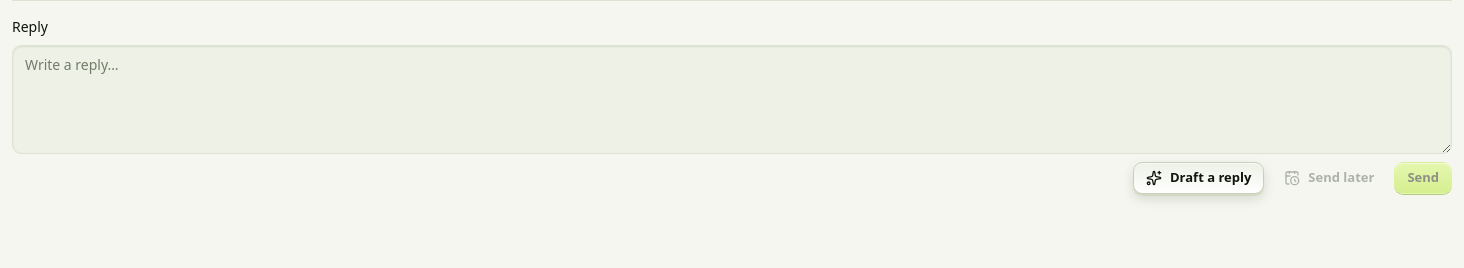
it: a send-later instant in the past is refused inline, without a request
In the text box labelled "Reply": x=732, y=100 [12,45,1452,154], type "oops"
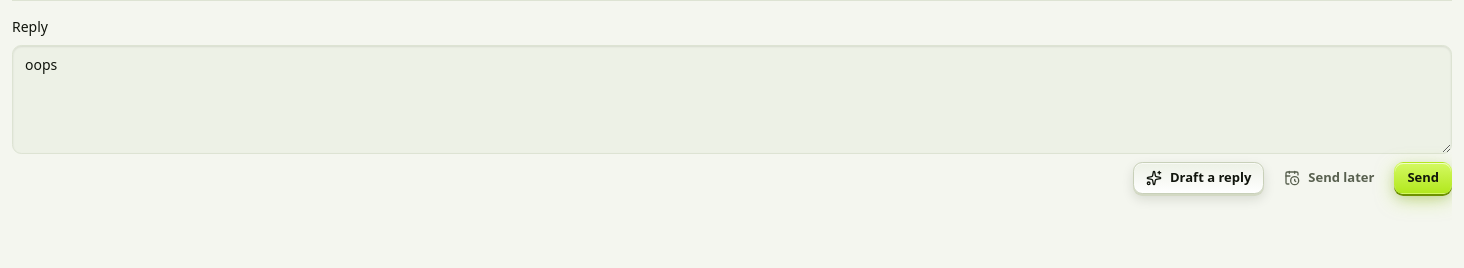
Click the button "Send later": x=1329, y=178 [1272,162,1386,194]
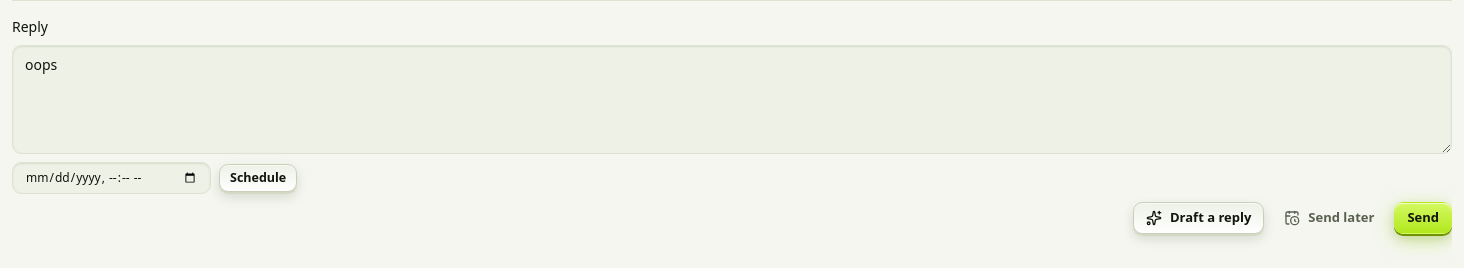
In the field named "specific date and time": x=112, y=178 [12,162,211,194], type "2020-01-01T09:00"
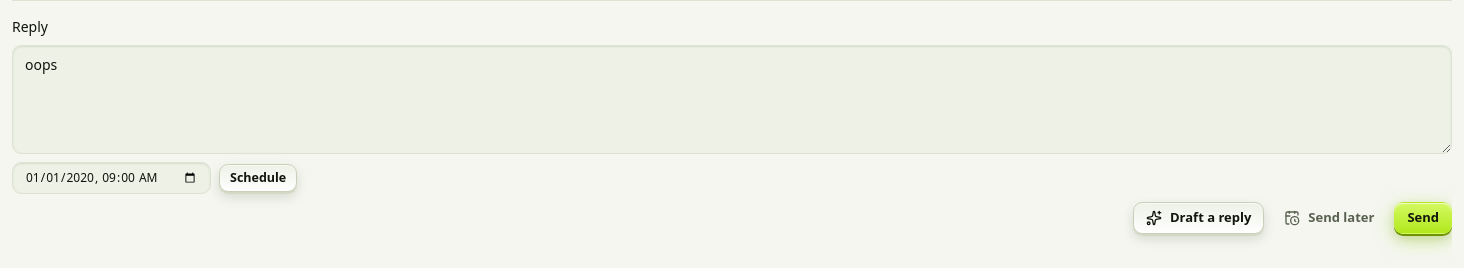
Click the button "Schedule": x=258, y=178 [219,164,297,192]
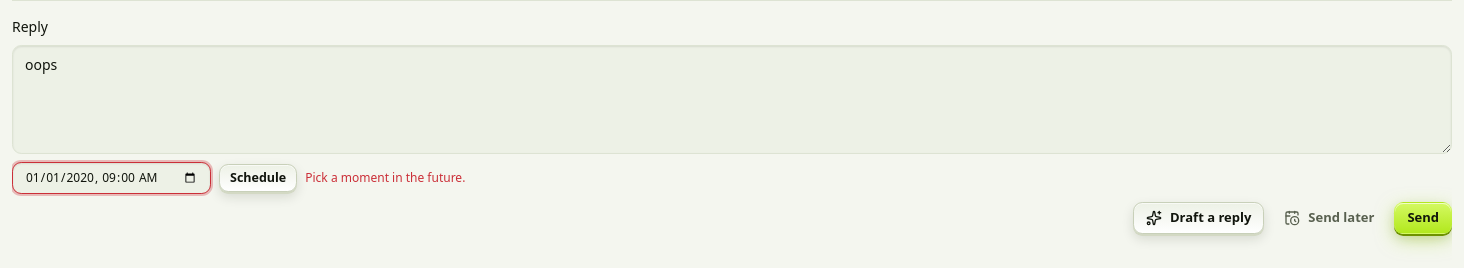
Check: the message shows "future", box [305,169,465,186]
